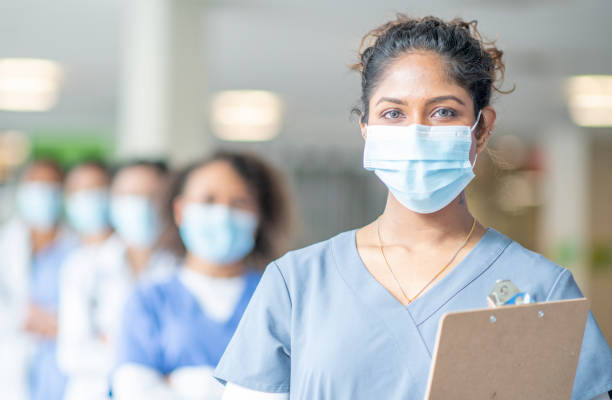with mask: (356, 18, 490, 217), (170, 152, 261, 265), (109, 159, 168, 254), (56, 167, 109, 236), (11, 159, 64, 228)
